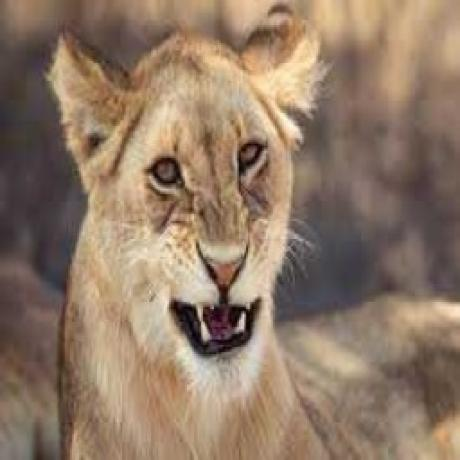Lion: (43, 0, 460, 460)
